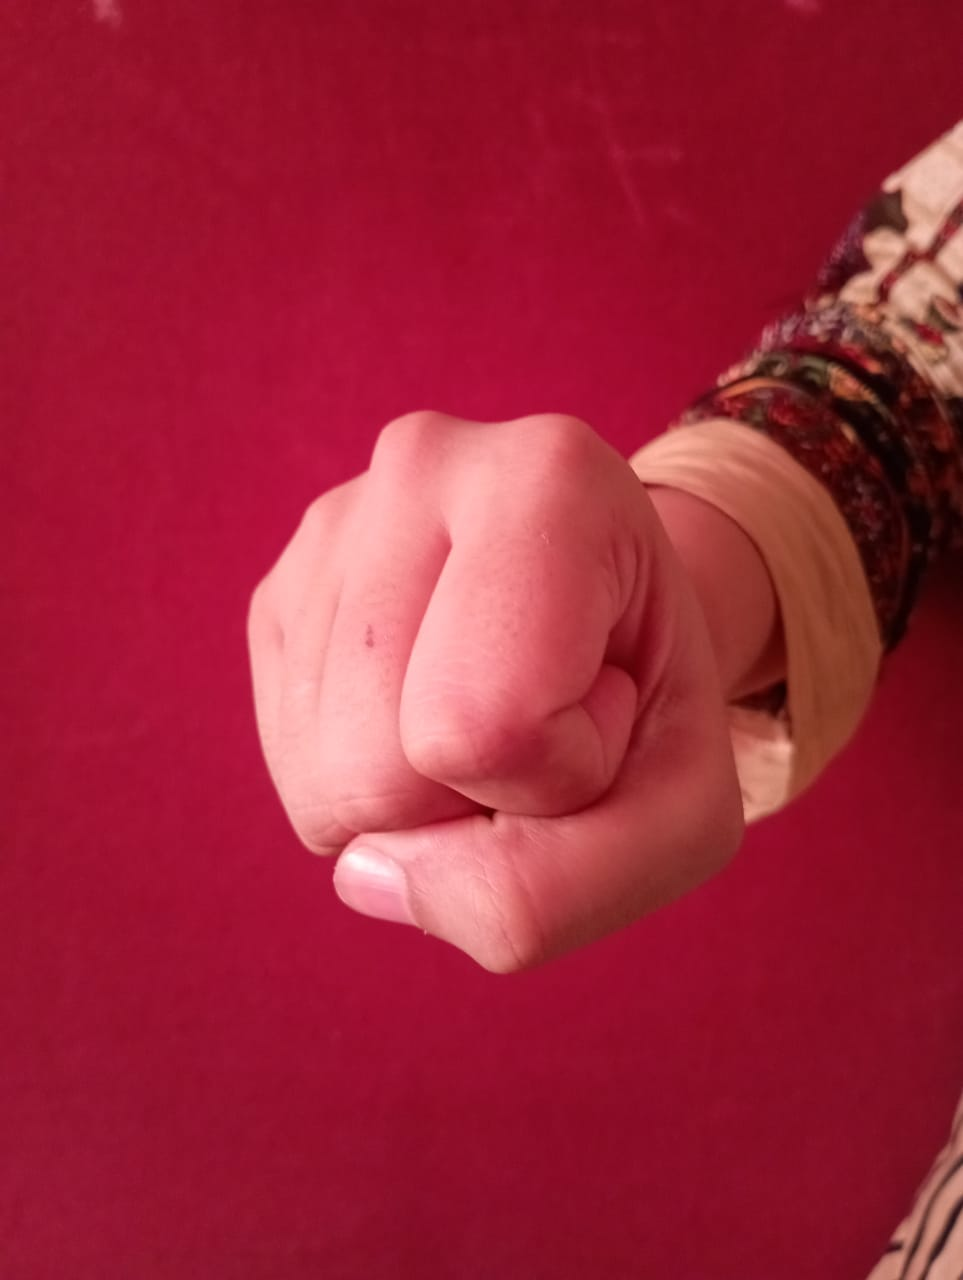BroCode: (234, 396, 760, 984)
